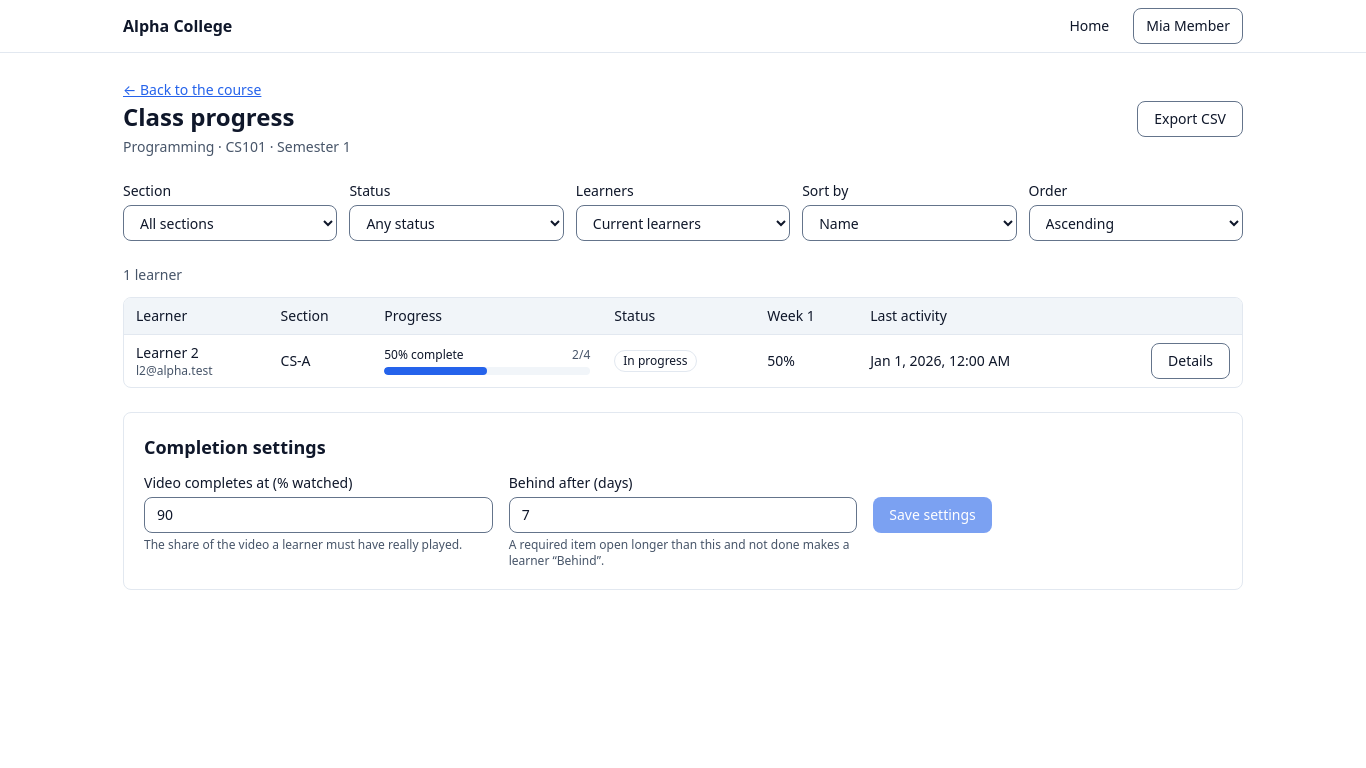
the class progress page › shows removed learners as read-only history when asked
Expected: the text "Learner 2" is shown, [136,343,199,363]
Select "Removed learners (history)" in the dropdown labelled "Learners": point(683, 223) [576,205,790,241]
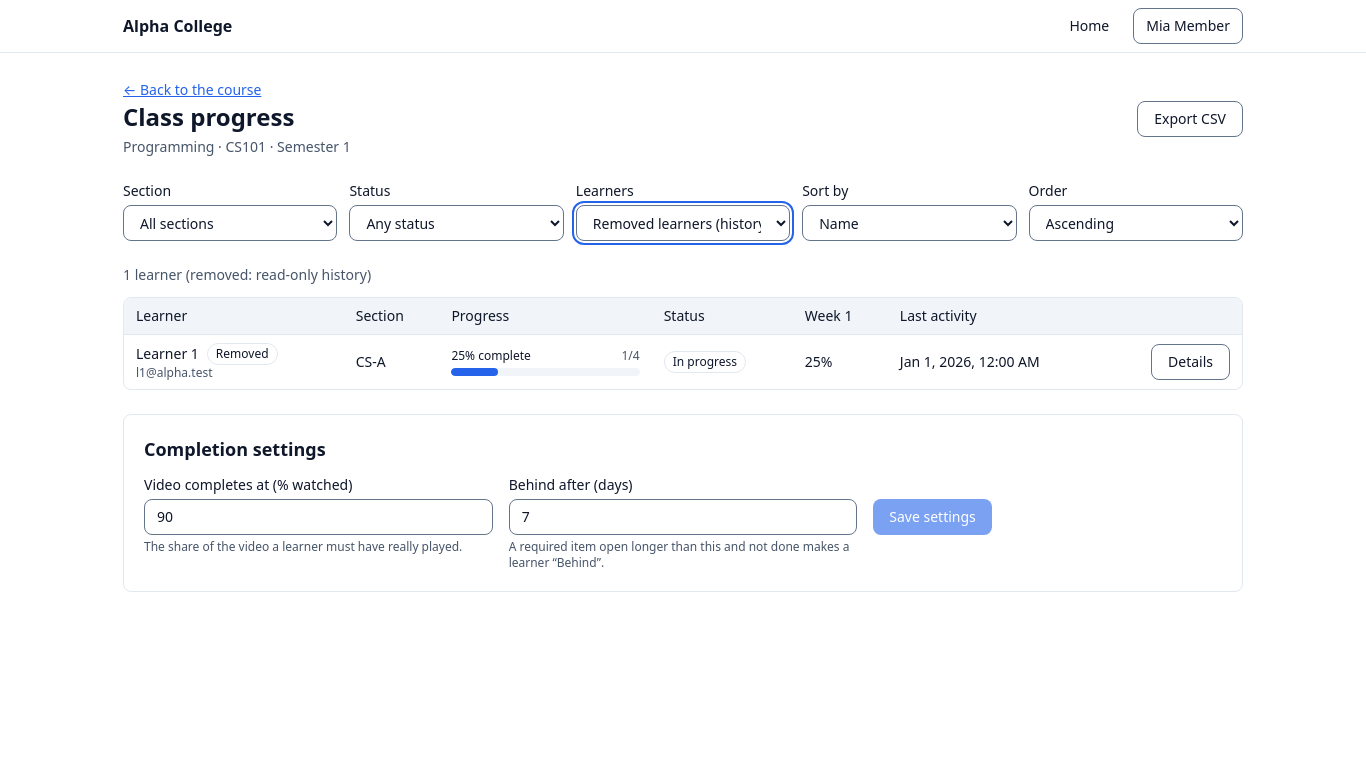
Result: the text "Learner 1" is shown at [136,344,199,364]
Result: the text "Removed" is shown at [207,343,278,365]
Result: the text "1 learner (removed: read-only history)" is shown at [123,265,371,284]
